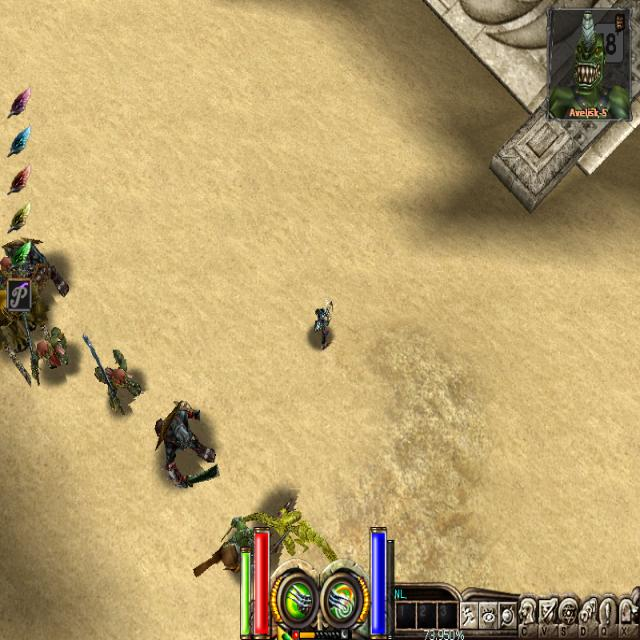monster: (155, 382, 219, 514), (259, 479, 340, 561), (93, 324, 152, 431), (32, 311, 87, 396), (191, 512, 258, 579)
